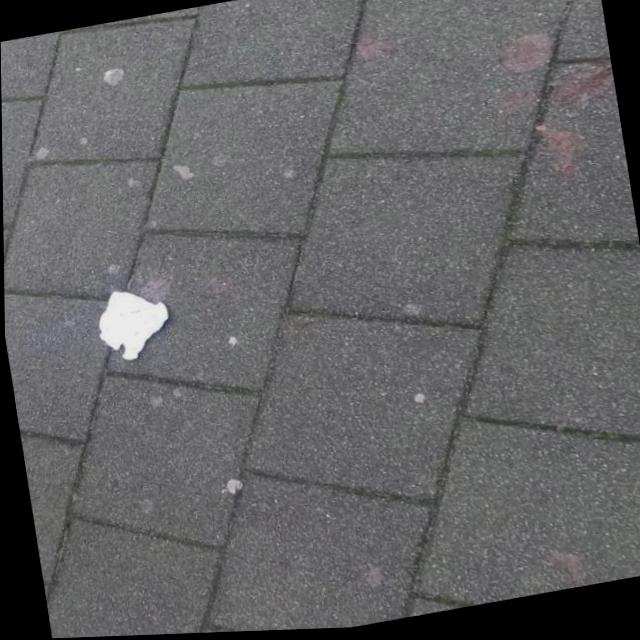Paper: (88, 282, 177, 369)
